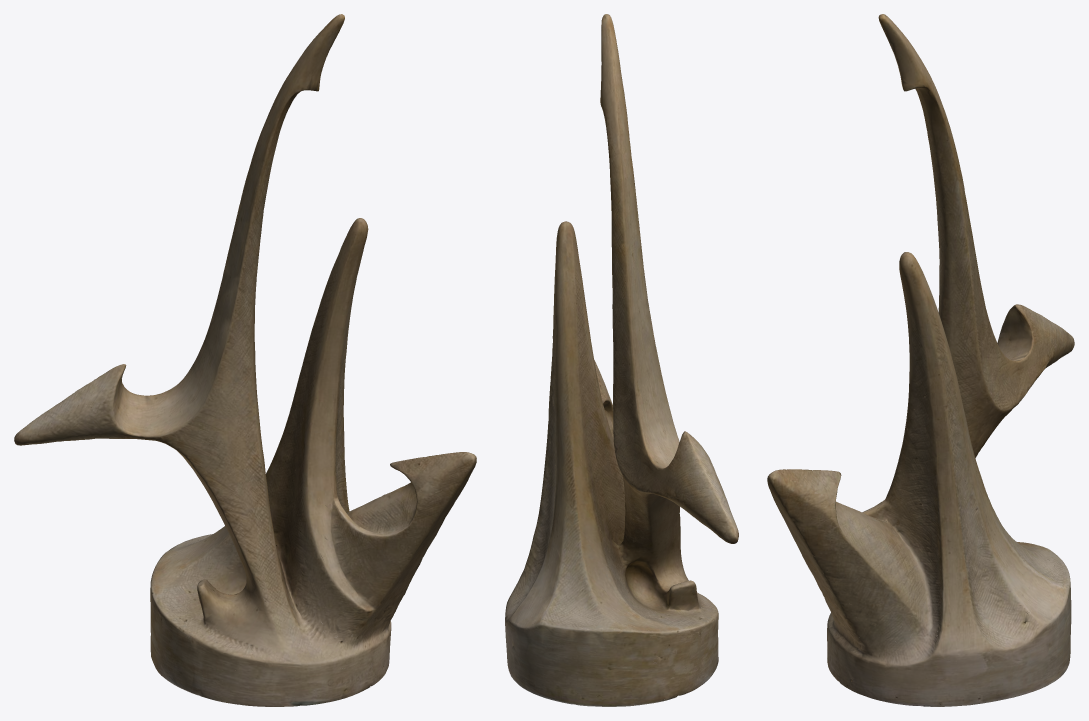
Rendered from sked29ba19.glb.
3 renders of one model, left to right at view 1: azimuth 30°, elevation 25°; view 2: azimuth 150°, elevation 25°; view 3: azimuth 270°, elevation 25°, orthographic. The views are drawn at different scales.
Visible parts, largest first — view 1: Object_2, Object_3; view 2: Object_2, Object_3; view 3: Object_2, Object_3.
Part boxes in pixels (box(x1,y1,x2,y2)): Object_2: box(14, 14, 392, 706); Object_3: box(150, 299, 476, 700); Object_2: box(505, 14, 738, 700); Object_3: box(505, 303, 681, 706); Object_2: box(802, 14, 1074, 706); Object_3: box(767, 293, 1071, 706).
Size of the model in its own units: 0.2001 by 0.4 by 0.168.
Materials: 1 (1 with a texture image).
